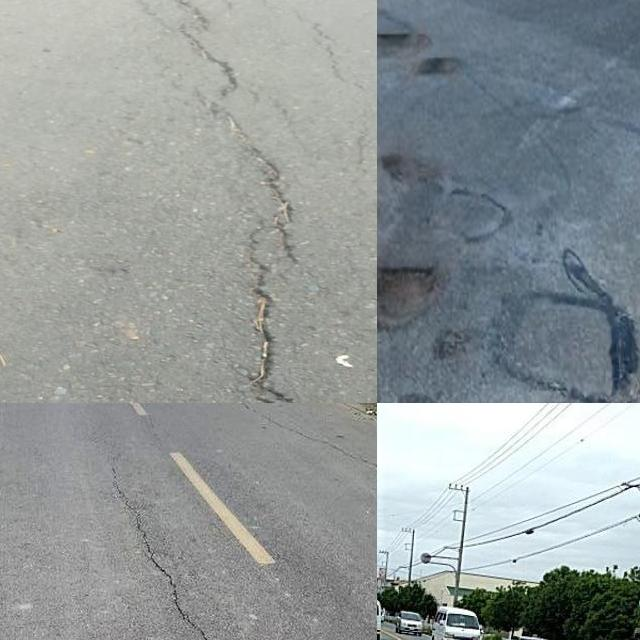Lubang: (377, 261, 451, 333), (377, 30, 429, 61)
Memanjang: (153, 0, 317, 403), (97, 466, 221, 640)
